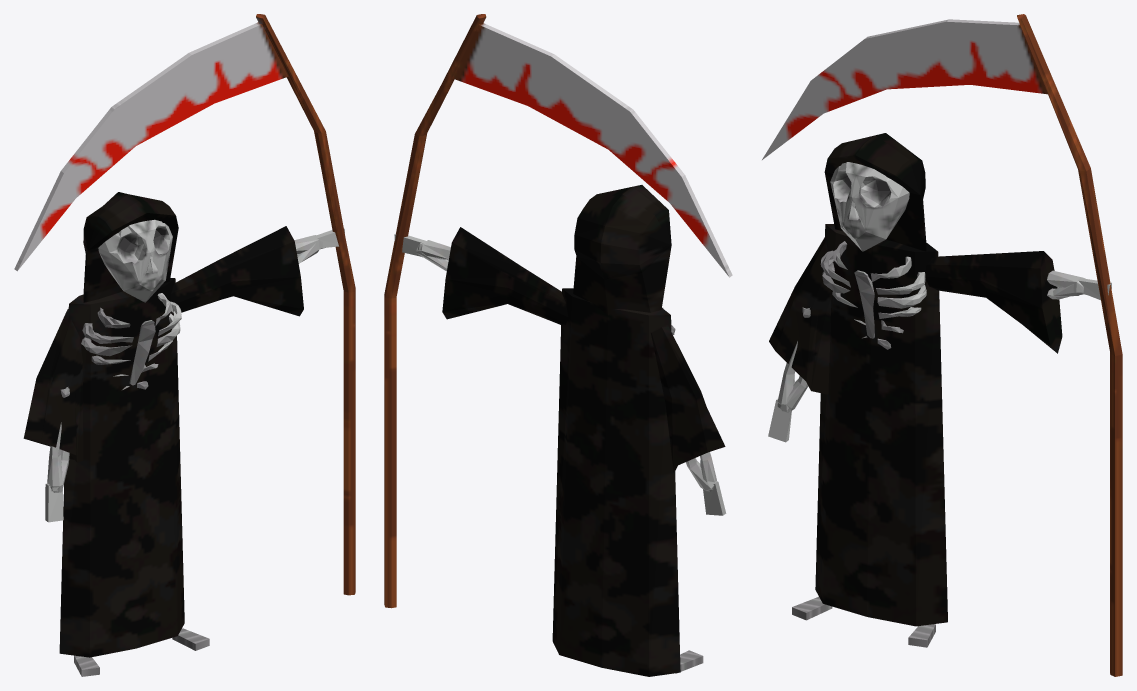
The model's file is Ripper.glb.
3 views of the same model, side by side, from view 1: azimuth 30°, elevation 25°; view 2: azimuth 150°, elevation 25°; view 3: azimuth 330°, elevation 25° (orthographic). The views are drawn at different scales.
Parts seen in each view (by area): view 1: Ripper; view 2: Ripper; view 3: Ripper.
Boxes of the visible parts, left/top/right/bottom form: Ripper: left=14, top=14, right=355, bottom=676; Ripper: left=384, top=14, right=732, bottom=676; Ripper: left=762, top=14, right=1122, bottom=676.
Bounding box in the file's own units: 87.05 × 147 × 20.8.
1 material, 1 textured.
